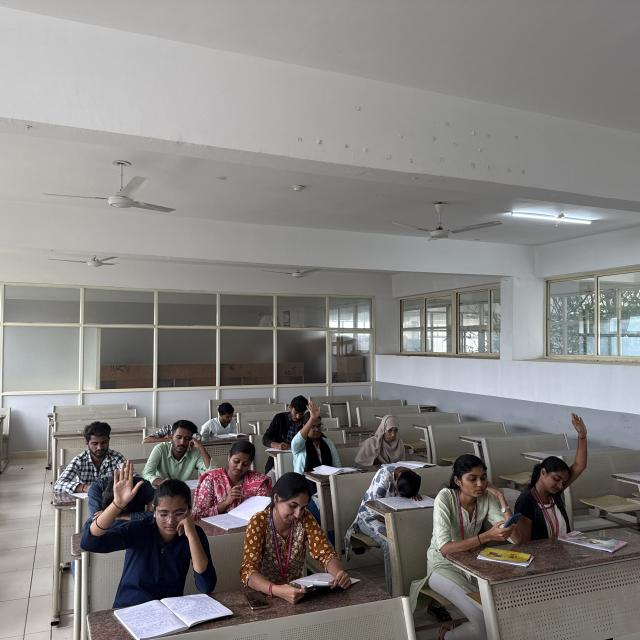Hand Rising: (88, 458, 223, 590), (519, 412, 599, 529), (289, 397, 343, 470)
Reading: (250, 476, 356, 600), (199, 440, 274, 522), (371, 411, 430, 466), (199, 400, 247, 445)
Sleeping: (364, 458, 427, 502)
Using Phone: (436, 450, 529, 545)
Writing: (265, 395, 316, 453)
